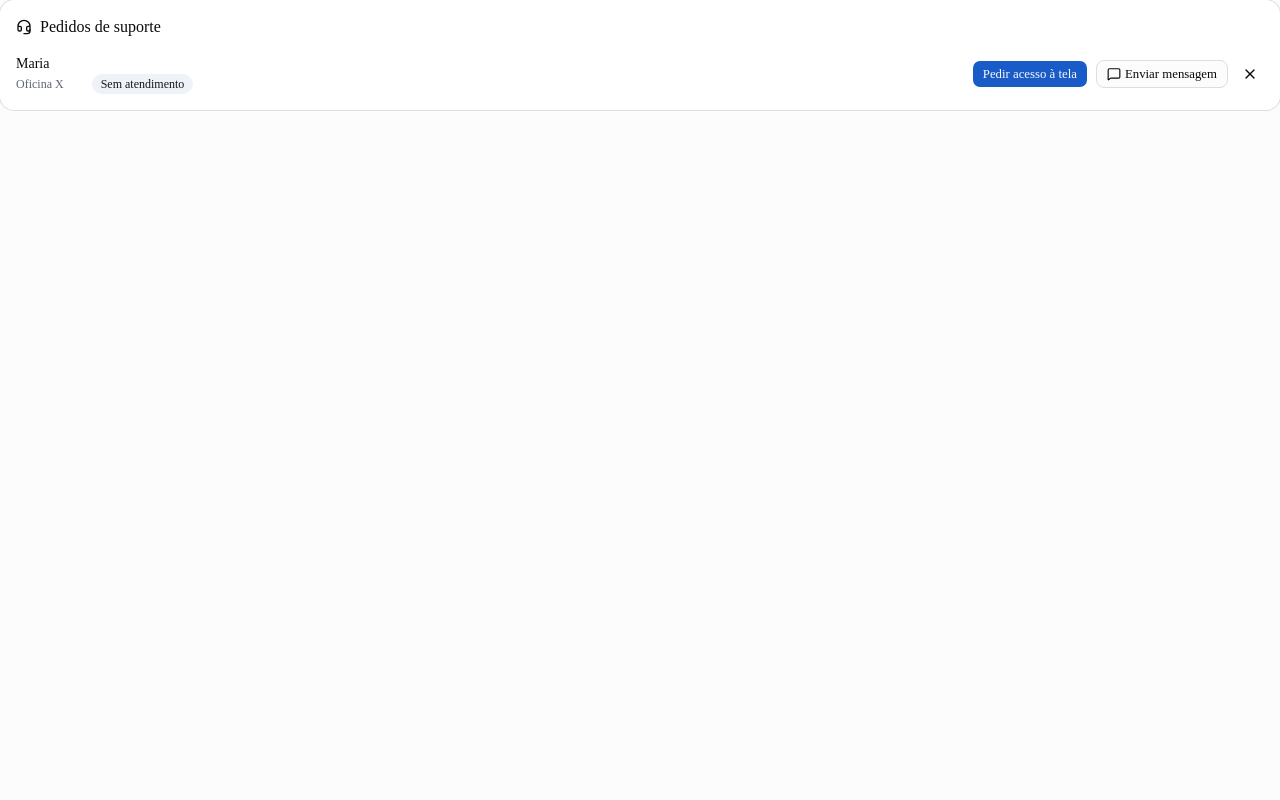
SupportInbox › enviar mensagem escreve sem pedir a tela e o pedido vira conversa por texto
Step 1. Click the button "Enviar mensagem" → (1162, 74), box [1096,60,1228,88]
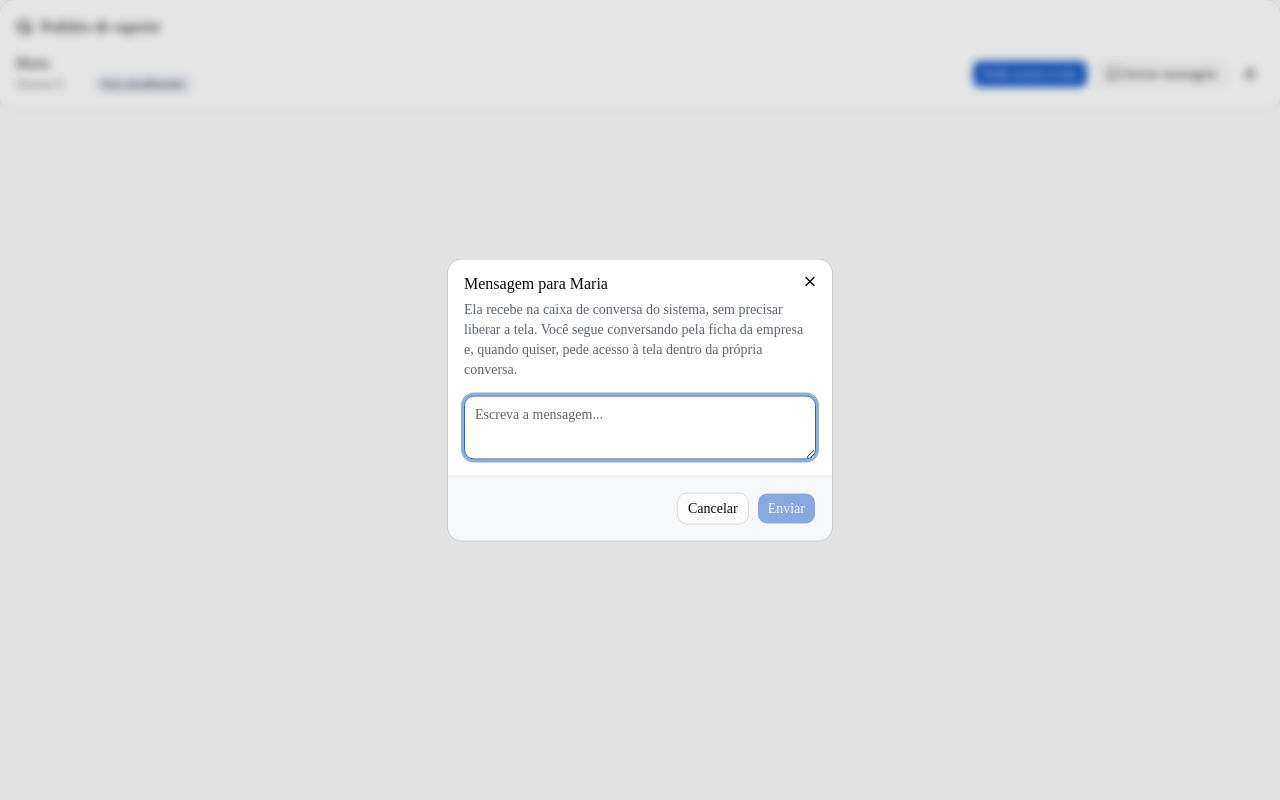
Step 2. Type "Já te ajudo" into the text box labelled "mensagem" → (640, 428), box [464,396,816,460]
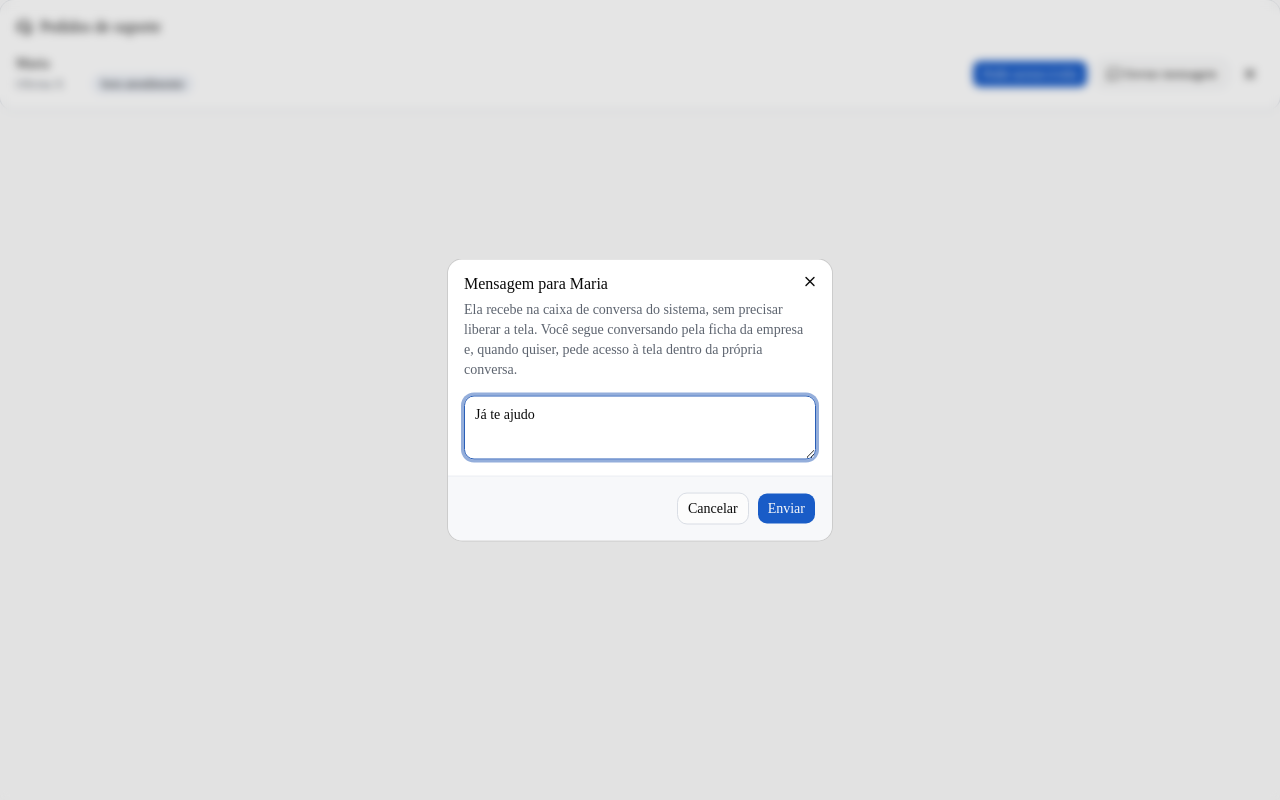
Step 3. Click the button "Enviar" → (786, 508), box [757,492,816,524]
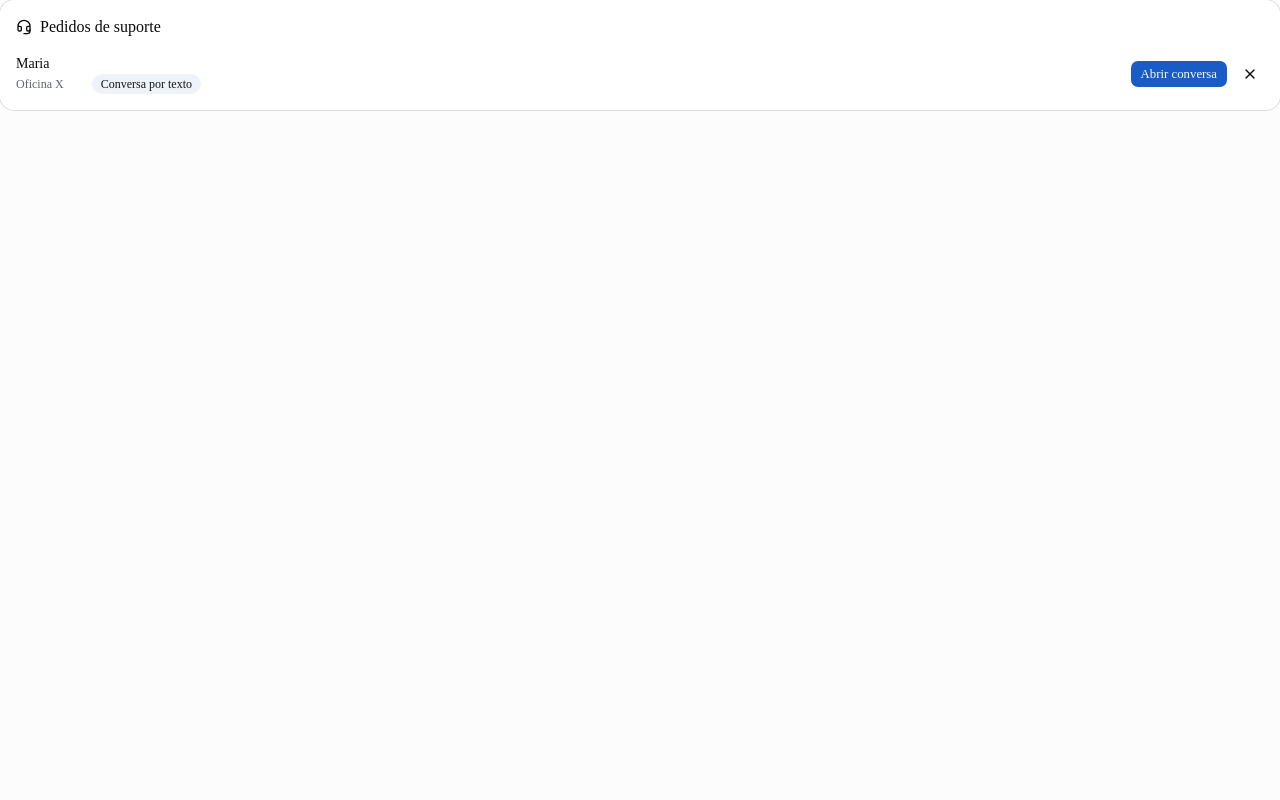
Now the text "Conversa por texto" is shown, box [92,74,201,94]
Now the button "Abrir conversa" is shown, box [1130,60,1228,88]
Now the button "Enviar mensagem" is gone
